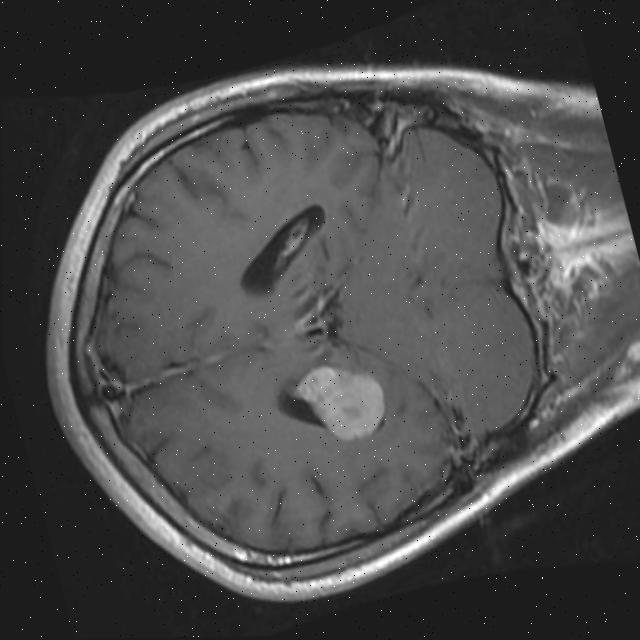Meningioma: (290, 349, 392, 452)
